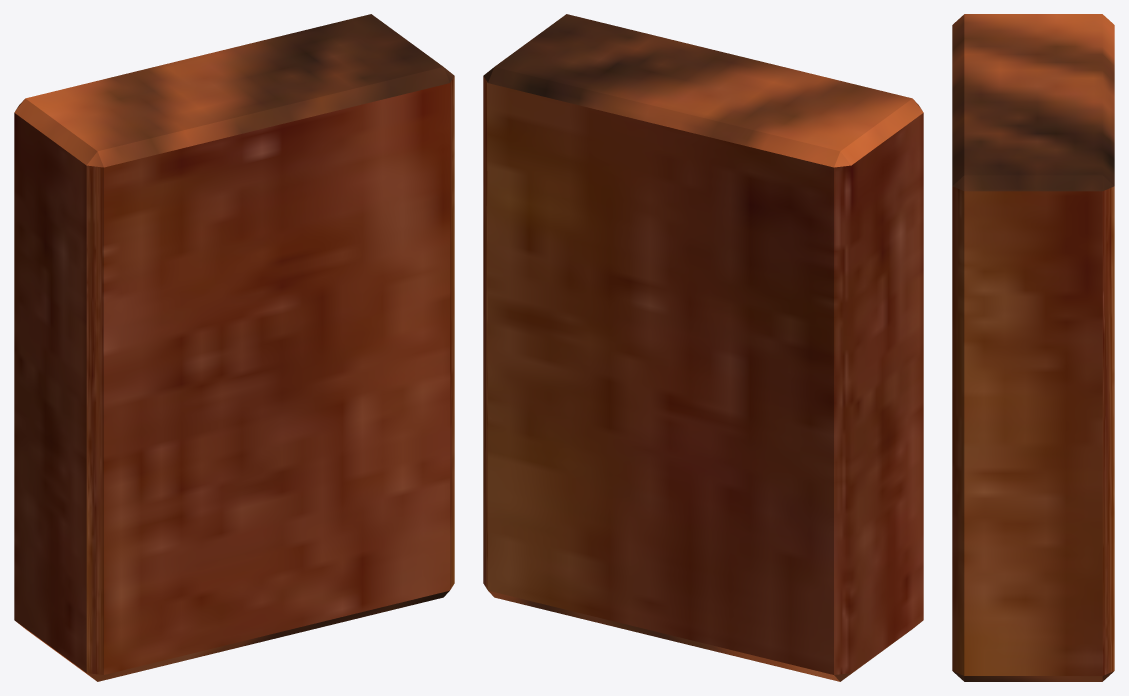
Rendered from ytsy_J_saizi_05.FBX.
3 views of the same model, side by side, from view 1: azimuth 30°, elevation 25°; view 2: azimuth 150°, elevation 25°; view 3: azimuth 270°, elevation 25° (orthographic). The views are drawn at different scales.
Parts seen in each view (by area): view 1: ytsy_J_saizi_05; view 2: ytsy_J_saizi_05; view 3: ytsy_J_saizi_05.
Part boxes in pixels (<box>): ytsy_J_saizi_05: <box>14,14,454,681</box>; ytsy_J_saizi_05: <box>483,14,923,681</box>; ytsy_J_saizi_05: <box>952,14,1114,681</box>.
Bounding box in the file's own units: 2 × 2.76 × 0.8.
